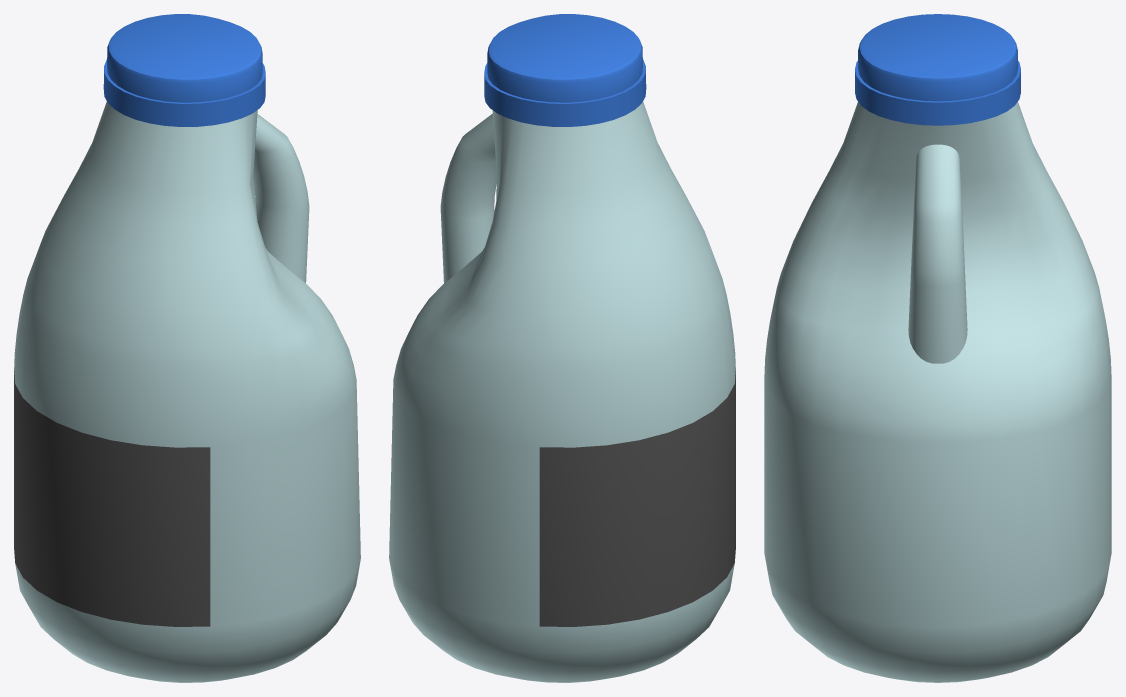
Rendered from Bleach.fbx.
3 renders of one model, left to right at view 1: azimuth 30°, elevation 25°; view 2: azimuth 150°, elevation 25°; view 3: azimuth 270°, elevation 25°, orthographic.
Parts seen in each view (by area): view 1: Bleach; view 2: Bleach; view 3: Bleach.
Boxes of the visible parts, left/top/right/bottom form: Bleach: left=14, top=14, right=360, bottom=682; Bleach: left=389, top=14, right=735, bottom=682; Bleach: left=764, top=14, right=1111, bottom=682.
Bounding box in the file's own units: 2 × 3.79 × 2.
